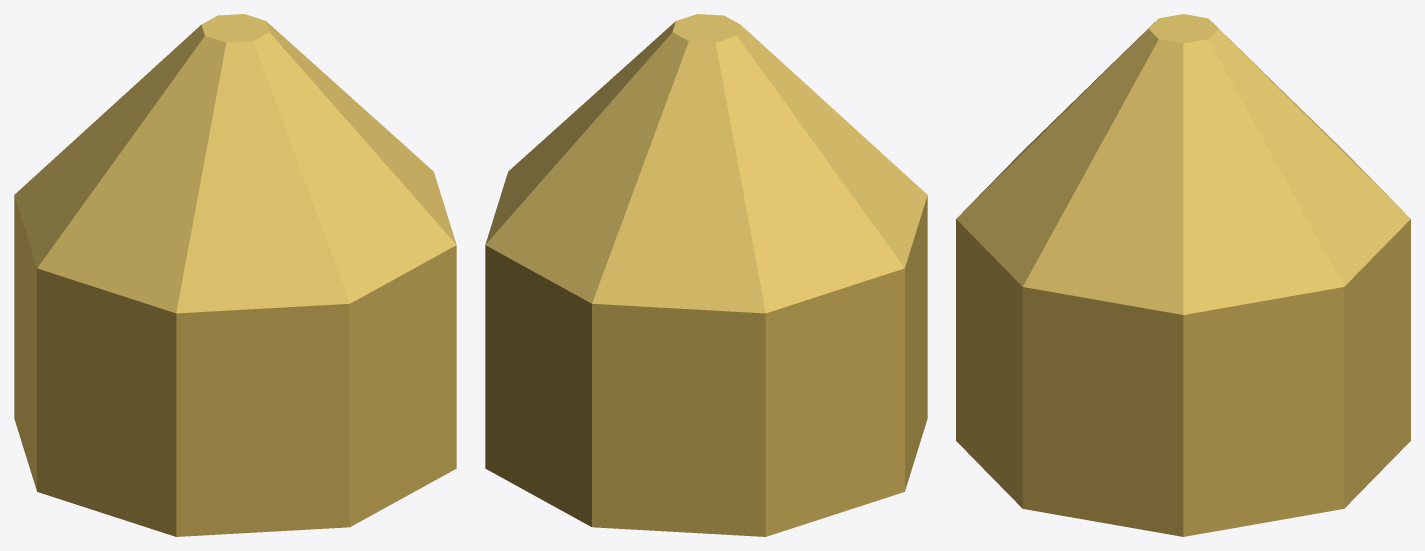
File: haystack.glb
3 views of the same model, side by side, from view 1: azimuth 30°, elevation 25°; view 2: azimuth 150°, elevation 25°; view 3: azimuth 270°, elevation 25° (orthographic).
Parts seen in each view (by area): view 1: haystack; view 2: haystack; view 3: haystack.
Part boxes in pixels (box(x1,y1,x2,y2)): haystack: box(14, 14, 456, 536); haystack: box(485, 14, 927, 536); haystack: box(956, 14, 1410, 536).
Bounding box in the file's own units: 2.6 × 2.6 × 2.6.
